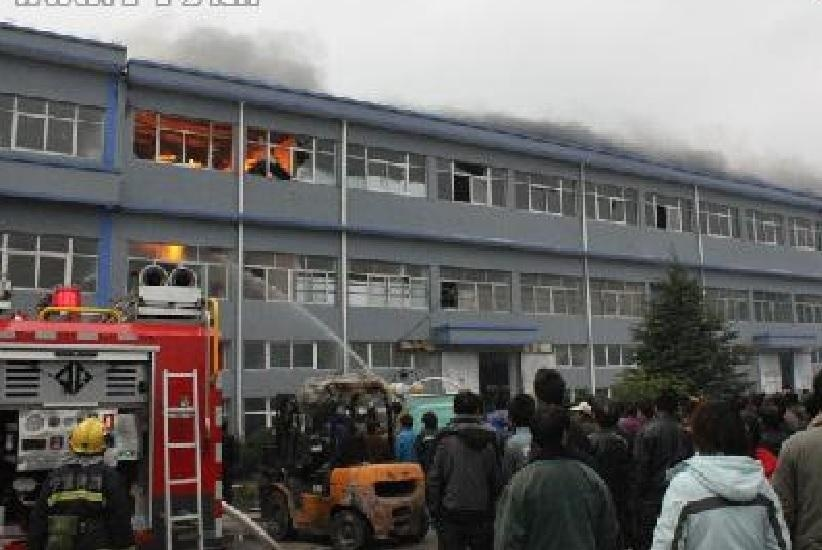fire: (244, 132, 294, 175), (146, 241, 186, 263)
